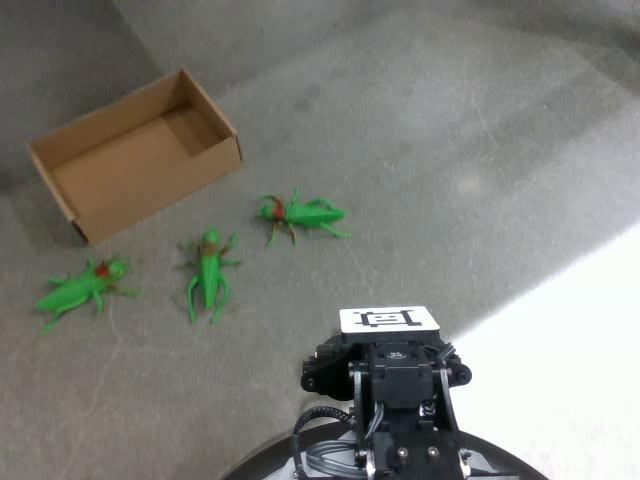box: (28, 66, 243, 247)
grasshopper: (32, 254, 131, 331), (183, 224, 241, 324), (255, 187, 351, 247)
